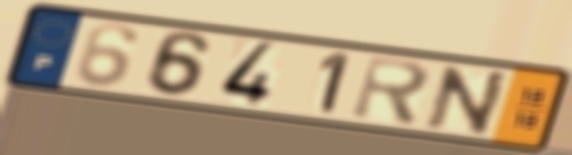1: (316, 51, 352, 118)
4: (214, 38, 283, 111)
6: (142, 29, 214, 100), (72, 21, 141, 91)
N: (423, 63, 514, 138)
R: (347, 53, 434, 130)
